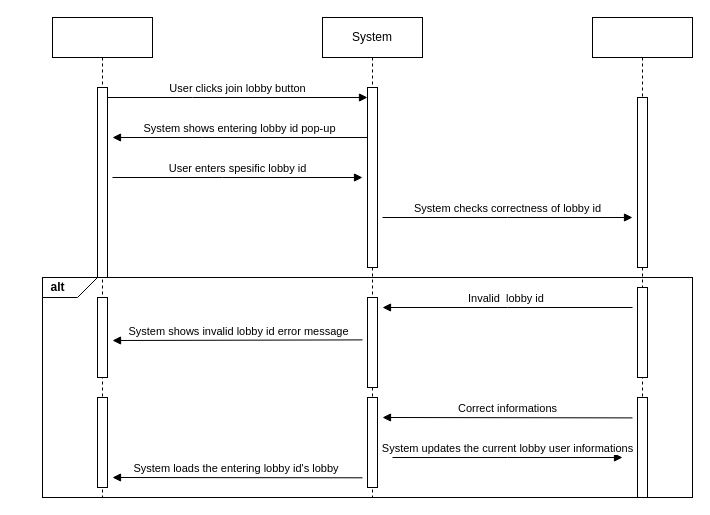
This 710x515 diagram has some shape labels left out. Here are the shapes that lost their labels. From the top down, the box of each, then its label:
(52, 16, 152, 498): User
(592, 16, 692, 498): Database
